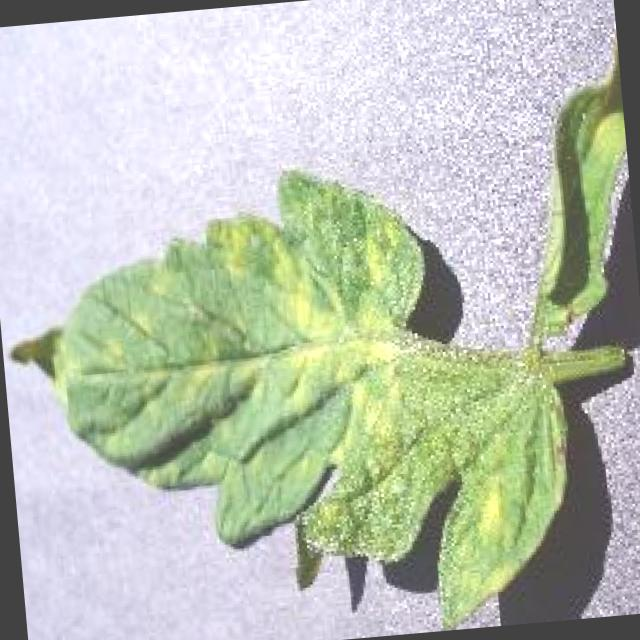leaf mold: (13, 29, 625, 630)
